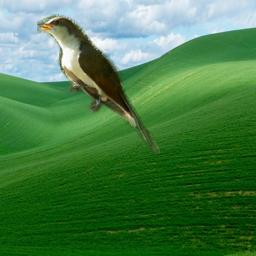Cuckoo: (37, 13, 160, 154)
